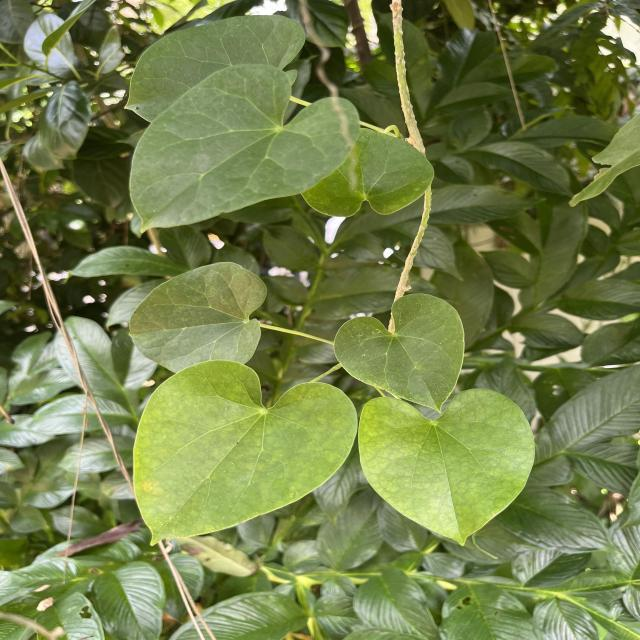Tinospora cordifolia: (128, 356, 360, 548), (126, 59, 364, 236), (357, 384, 538, 550), (331, 290, 467, 416), (126, 260, 270, 372)
